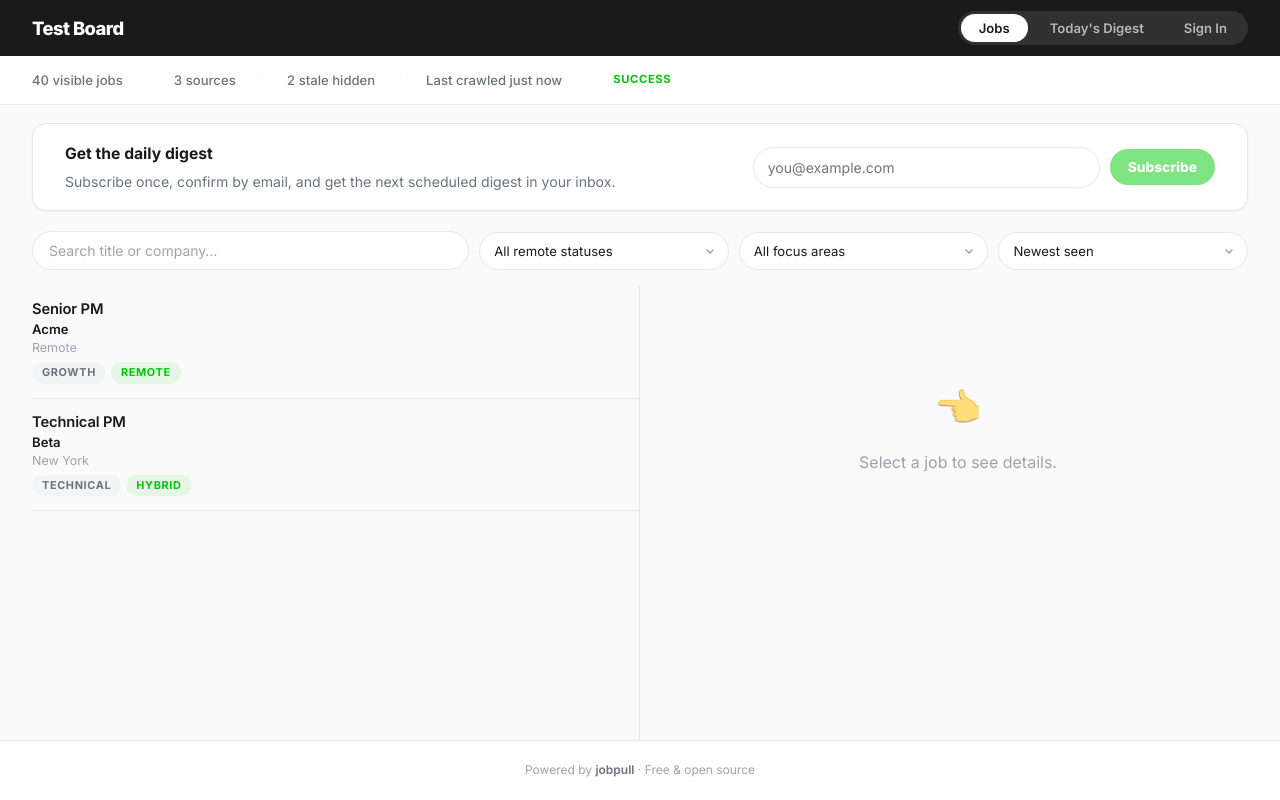
Test: App › clears filters after the user narrows the list
This screenshot has width=1280, height=800.
Check: the text "Senior PM" is shown, box left=32, top=300, right=103, bottom=318
Type "Acme" into the field named "search jobs" at {"x": 251, "y": 251}, box left=32, top=232, right=469, bottom=270
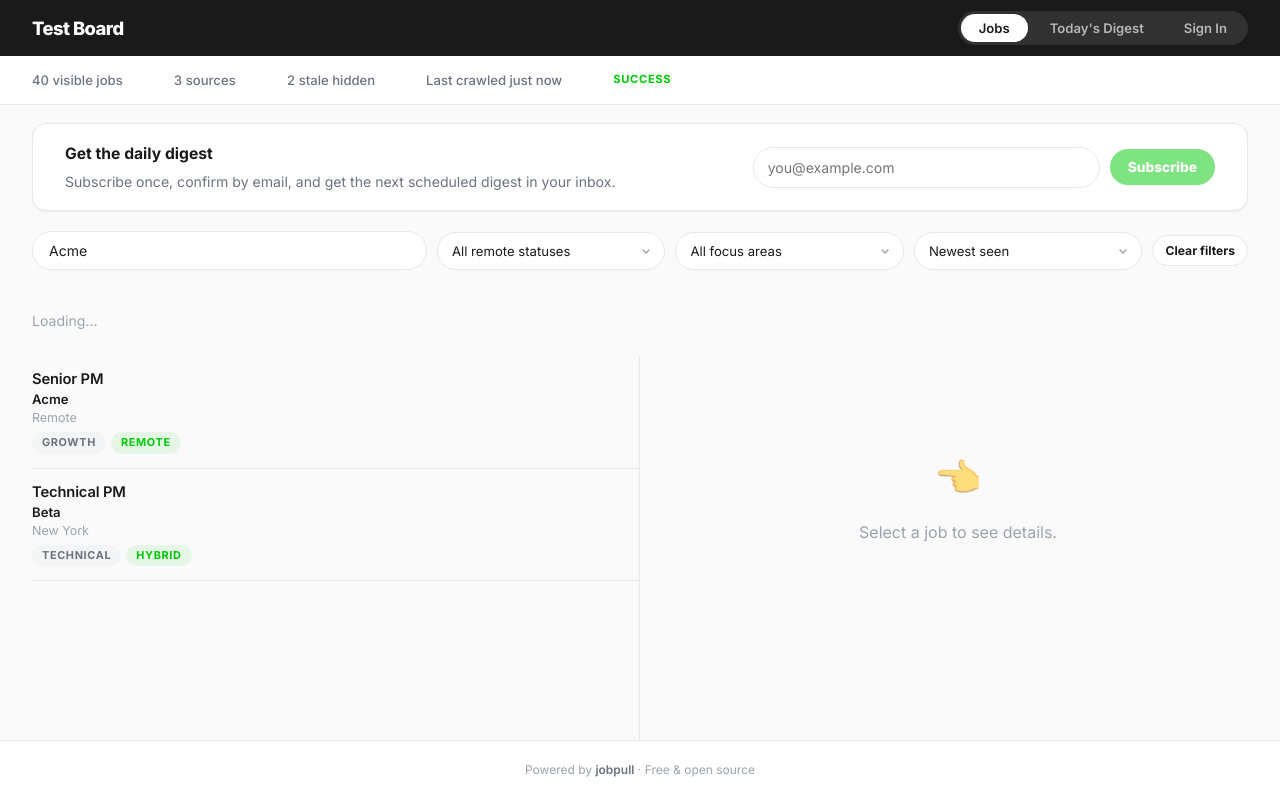
Check: the button "Clear filters" is shown
Click the button "Clear filters" at {"x": 1200, "y": 251}, box left=1152, top=236, right=1248, bottom=266
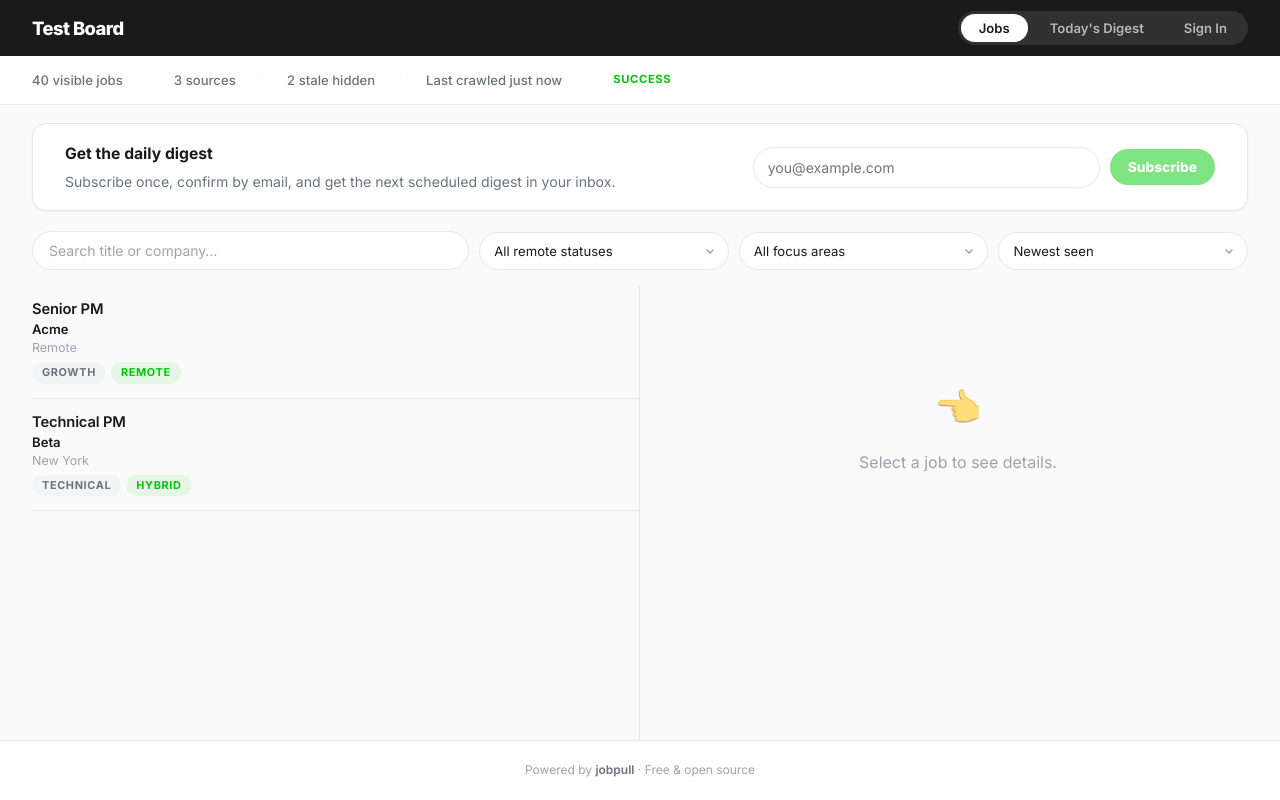
Check: the field named "search jobs" is empty, box left=32, top=232, right=469, bottom=270
